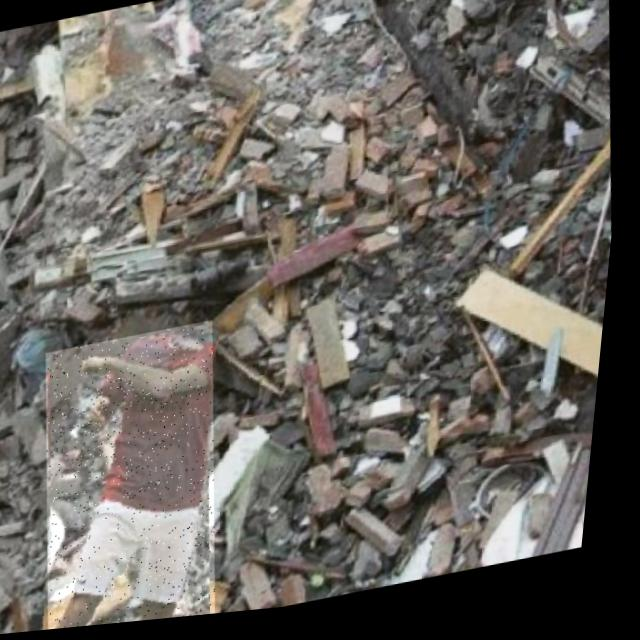Person in Rubble: (32, 322, 251, 634)
